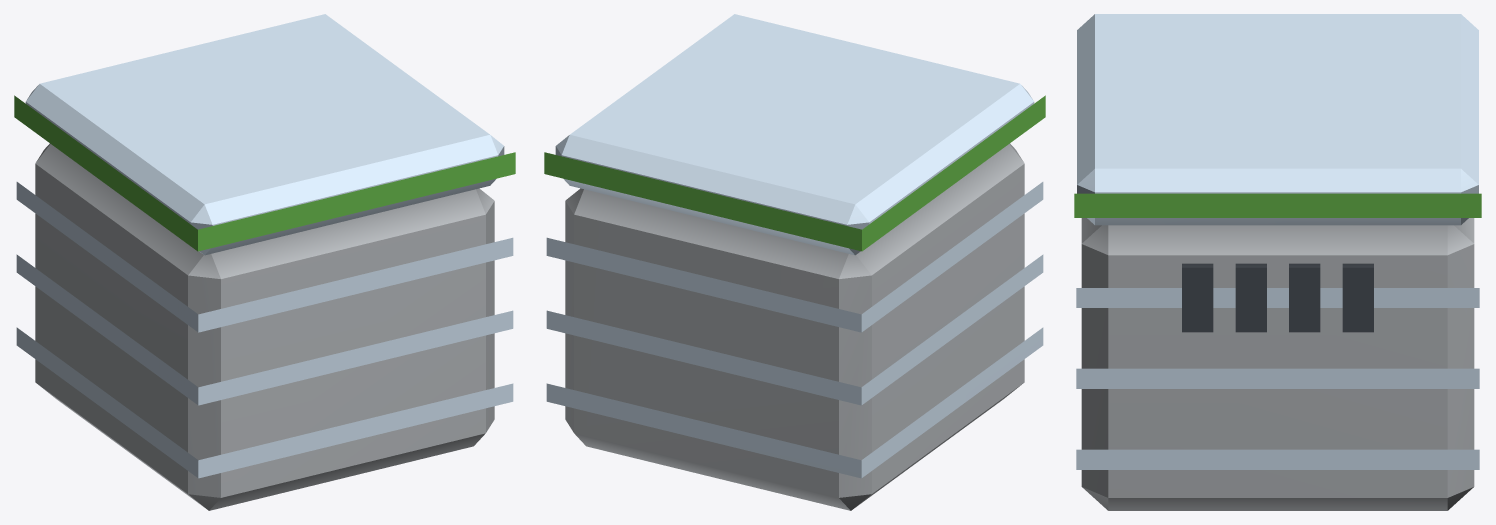
The model's file is crate_food.glb.
3 renders of one model, left to right at view 1: azimuth 30°, elevation 25°; view 2: azimuth 150°, elevation 25°; view 3: azimuth 270°, elevation 25°, orthographic. The views are drawn at different scales.
Parts seen in each view (by area): view 1: Crate; view 2: Crate; view 3: Crate.
Boxes of the visible parts, x1,y1,x2,y2 form: Crate: (14, 14, 515, 510); Crate: (544, 14, 1045, 510); Crate: (1074, 14, 1481, 510).
Size of the model in its own units: 0.459 by 0.43 by 0.456.
